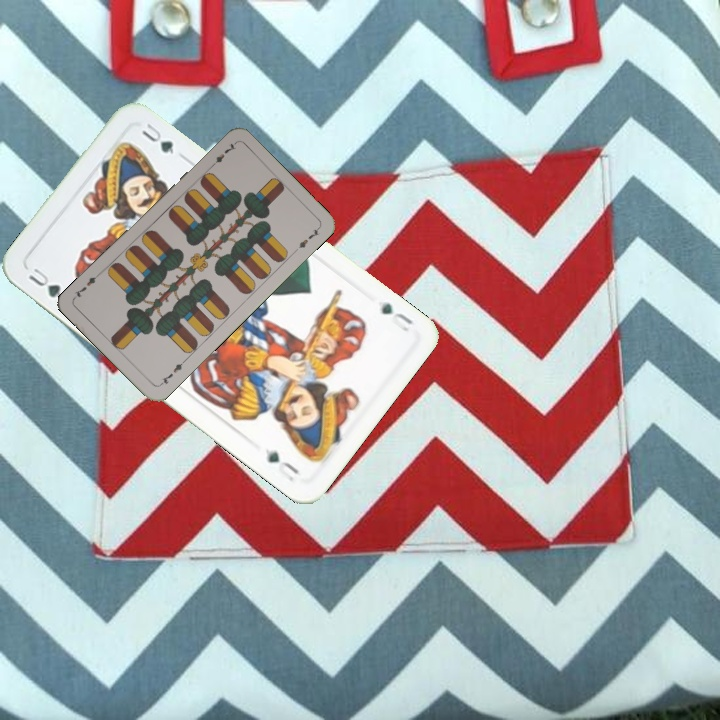E7: (205, 139, 239, 171), (156, 356, 188, 389)
GU: (24, 263, 65, 301), (377, 297, 416, 335)
